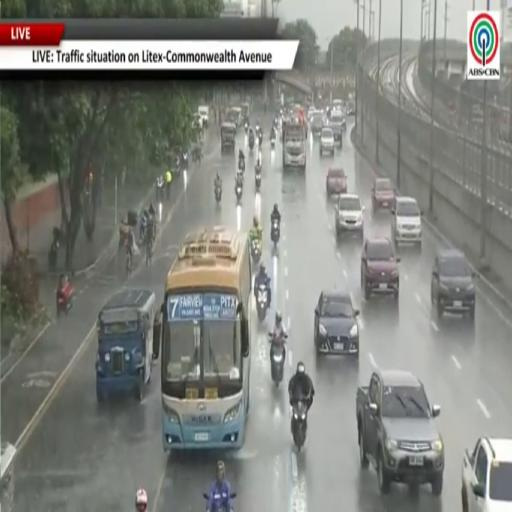bus: (160, 228, 252, 451)
car: (462, 437, 511, 511), (431, 249, 475, 321), (314, 291, 359, 357), (361, 237, 399, 300), (392, 197, 422, 249), (335, 194, 363, 238), (371, 178, 395, 212), (326, 168, 347, 197), (330, 111, 345, 147), (320, 127, 334, 156), (310, 111, 323, 137), (198, 106, 209, 129), (192, 114, 202, 131)
jeepney: (96, 290, 156, 402), (221, 122, 236, 153), (230, 107, 242, 129), (241, 103, 250, 122)
motorcycle: (269, 333, 287, 387), (291, 399, 307, 451), (56, 281, 73, 316), (256, 283, 268, 322), (208, 493, 230, 511), (48, 240, 59, 271), (250, 238, 261, 263), (271, 219, 279, 248), (156, 176, 164, 200), (174, 156, 181, 178), (181, 152, 188, 170), (255, 173, 261, 192), (248, 134, 254, 152), (236, 184, 242, 202), (215, 186, 221, 204), (238, 158, 245, 172), (257, 130, 263, 146), (158, 201, 162, 223), (271, 135, 275, 149), (245, 121, 248, 134)
truck: (356, 371, 444, 495), (282, 121, 306, 170)
